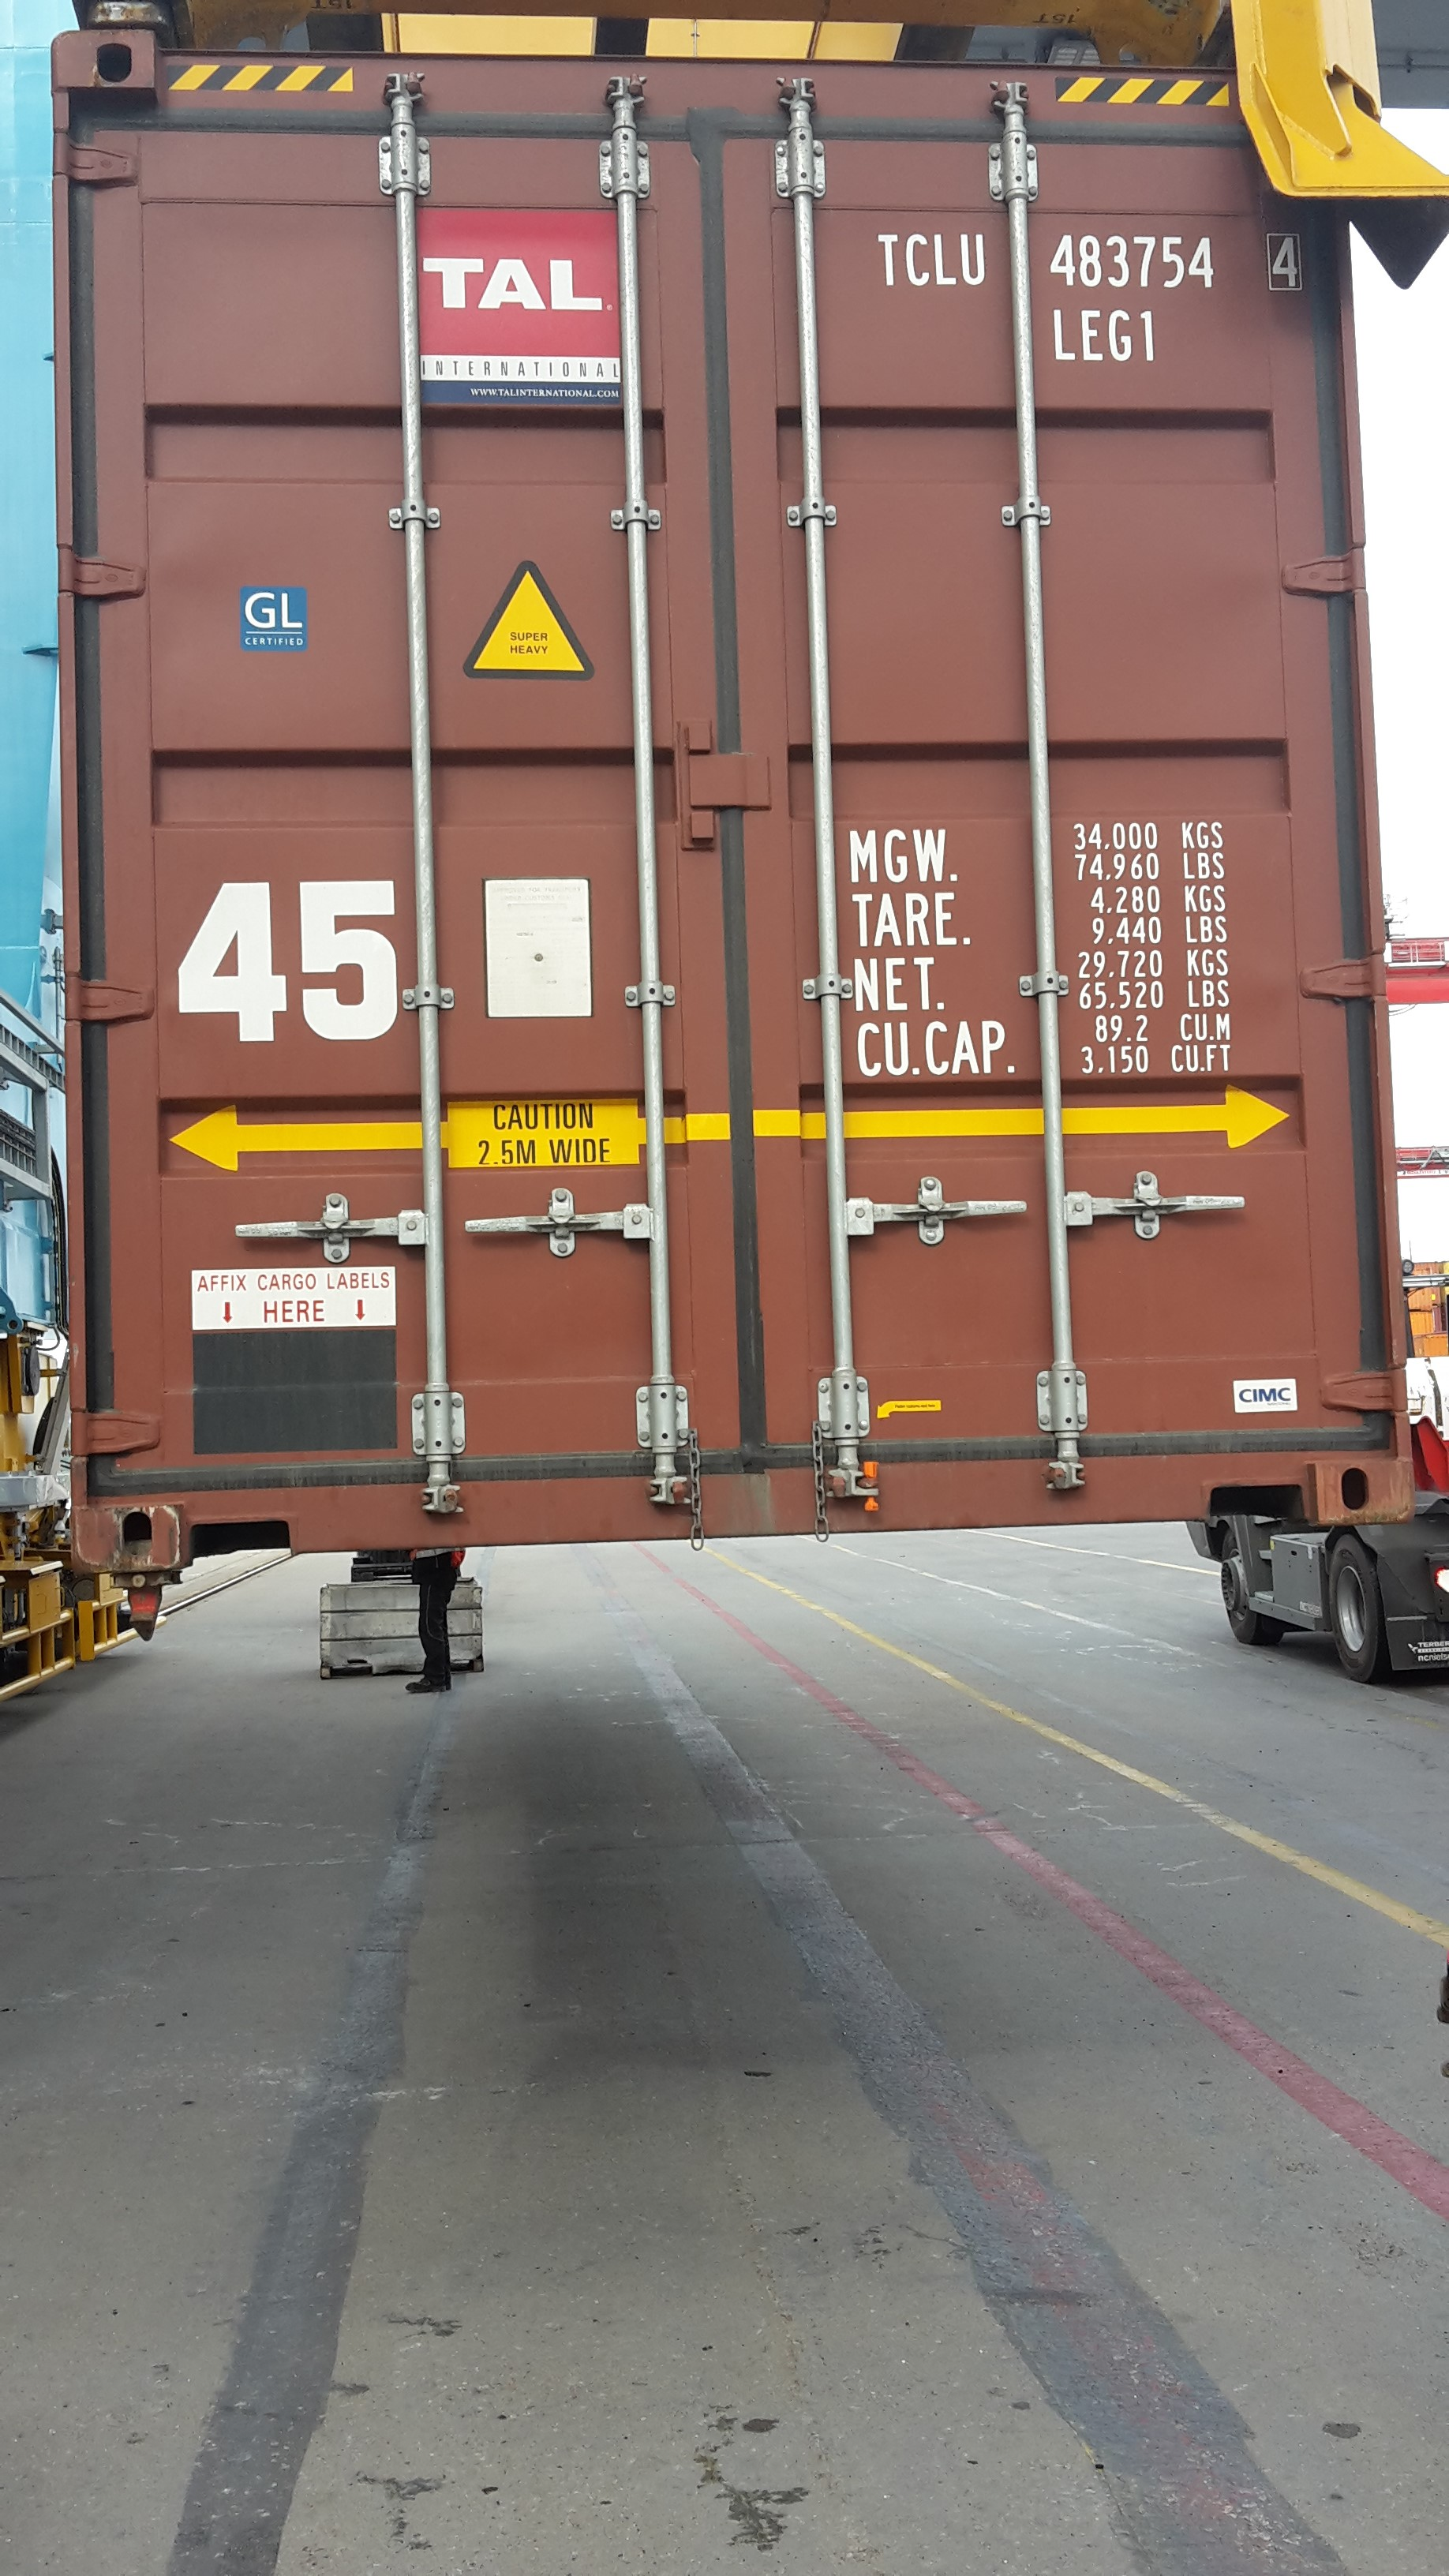container_door: (78, 96, 1389, 1560)
twist_lock_1: (88, 1534, 191, 1681)
